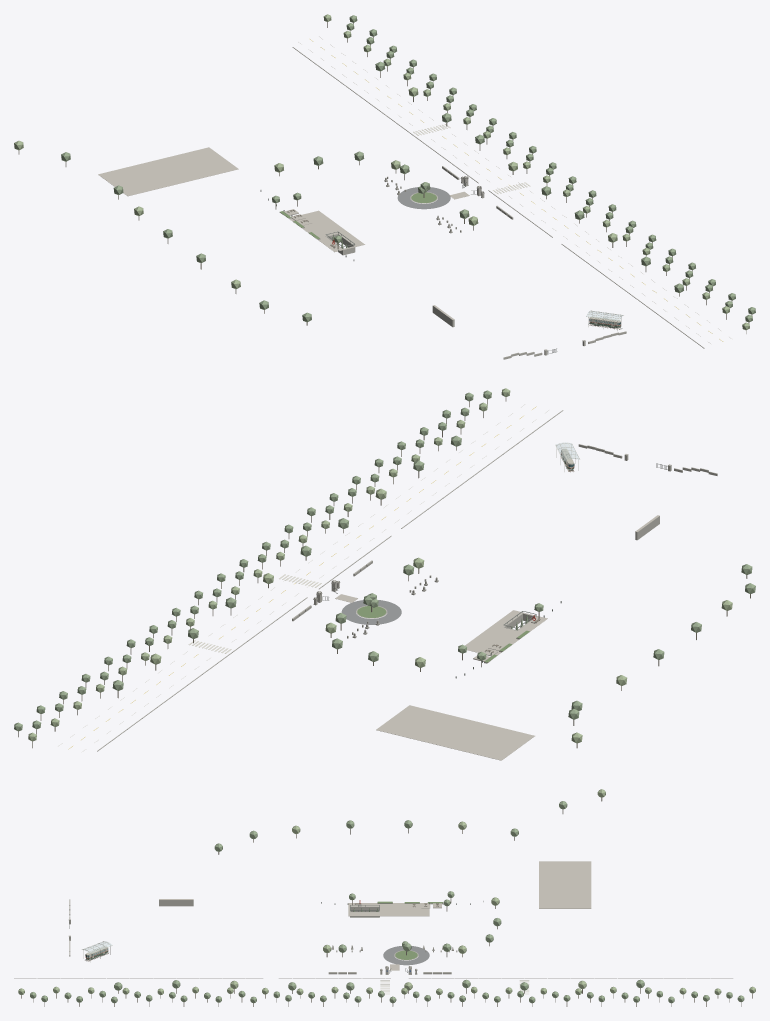
The picture shows the model from 3 angles, top to bottom: view 1: azimuth 30°, elevation 25°; view 2: azimuth 150°, elevation 25°; view 3: azimuth 270°, elevation 25°; orthographic projection. The views are drawn at different scales.
Parts seen in each view (by area): view 1: props_leaf, props_steps, props_leaf-light, props_stone, courtyard_steps, props_road-white, props_drive-asphalt; view 2: props_leaf, props_steps, props_leaf-light, props_stone, courtyard_steps, props_road-white, props_wood, props_drive-asphalt; view 3: props_leaf, props_steps, props_stone, props_leaf-light, courtyard_steps, props_wood, props_drive-asphalt, props_road-white.
Part boxes in pixels (bbox=[...]): props_leaf: bbox=[61, 15, 755, 322]; props_steps: bbox=[98, 147, 469, 320]; props_leaf-light: bbox=[14, 14, 749, 330]; props_stone: bbox=[279, 47, 704, 359]; courtyard_steps: bbox=[289, 210, 364, 252]; props_road-white: bbox=[298, 36, 732, 344]; props_drive-asphalt: bbox=[397, 187, 450, 209]; props_leaf: bbox=[14, 390, 755, 731]; props_steps: bbox=[335, 515, 659, 760]; props_leaf-light: bbox=[28, 388, 732, 743]; props_stone: bbox=[97, 410, 717, 751]; courtyard_steps: bbox=[465, 610, 547, 655]; props_road-white: bbox=[58, 404, 580, 752]; props_wood: bbox=[18, 397, 750, 748]; props_drive-asphalt: bbox=[341, 600, 401, 624]; props_leaf: bbox=[30, 801, 744, 1003]; props_steps: bbox=[159, 861, 591, 970]; props_stone: bbox=[14, 899, 732, 978]; props_leaf-light: bbox=[18, 789, 755, 995]; courtyard_steps: bbox=[348, 903, 429, 916]; props_wood: bbox=[21, 797, 752, 1006]; props_drive-asphalt: bbox=[383, 946, 429, 965]; props_road-white: bbox=[81, 941, 529, 994].
Bounding box in the file's own units: 220 × 26.56 × 384.
